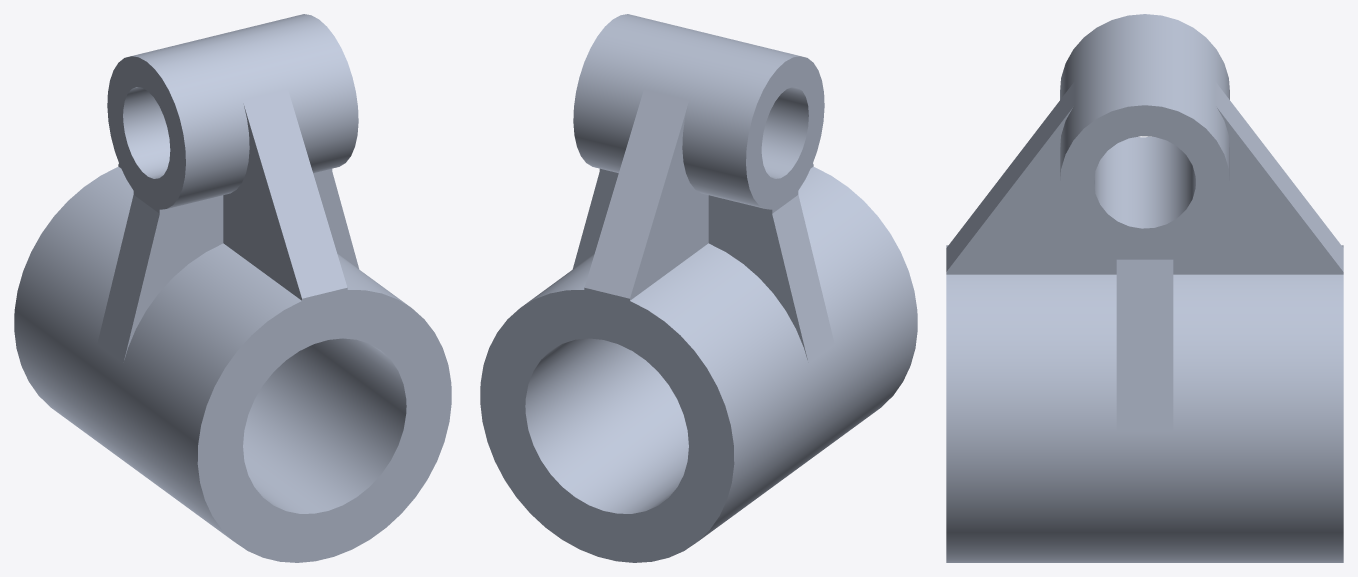
The picture shows the model from 3 angles, left to right: view 1: azimuth 30°, elevation 25°; view 2: azimuth 150°, elevation 25°; view 3: azimuth 270°, elevation 25°; orthographic projection. The views are drawn at different scales.
Visible parts, largest first — view 1: hw-04-01; view 2: hw-04-01; view 3: hw-04-01.
Part boxes in pixels (x1,y1,x2,y2): hw-04-01: (14,14,451,562); hw-04-01: (480,14,917,562); hw-04-01: (946,14,1343,562).
Bounding box in the file's own units: 0.028 × 0.0475 × 0.035.
